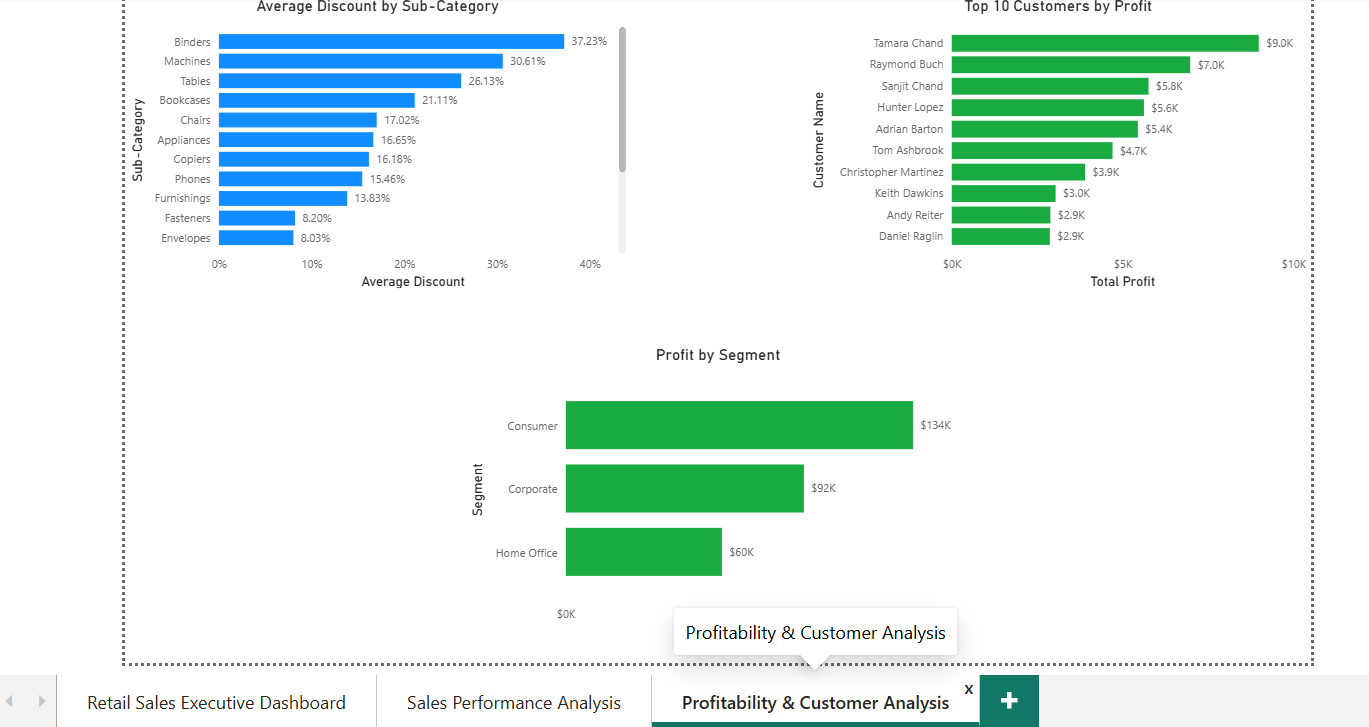

This screenshot's page, from the dashboard's own definition file:
{"tool":"powerbi","page":{"name":"Profitability & Customer Analysis","canvas":[1280,720],"ordinal":2},"visuals":[{"type":"clusteredBarChart","fields":{"Y":["Measures (2).Average Discount"],"Category":["Retail Sales Dataset.Sub-Category"]},"box":[0,0,545.7,320],"z":0},{"type":"clusteredBarChart","title":"Top 10  Customers by Profit","fields":{"Category":["Retail Sales Dataset.Customer Name"],"Y":["Measures (2).Total Profit"]},"box":[735.1,0,545,320],"z":1000},{"type":"clusteredBarChart","title":"Profit by Segment","fields":{"Category":["Retail Sales Dataset.Segment"],"Y":["Measures (2).Total Profit"]},"box":[367.6,377.3,545.7,320.6],"z":2000}]}

Visuals, with their boxes on the page's 1280x720 design canvas (x1, y1, x2, y2). These are canvas units, not pixel positions in the 1369x727 screenshot, which may show the page scaled, cropped or inside an application window:
clusteredBarChart - Measures (2).Average Discount x Retail Sales Dataset.Sub-Category: (0, 0, 546, 320)
"Top 10  Customers by Profit" clusteredBarChart: (735, 0, 1280, 320)
"Profit by Segment" clusteredBarChart: (368, 377, 913, 698)
